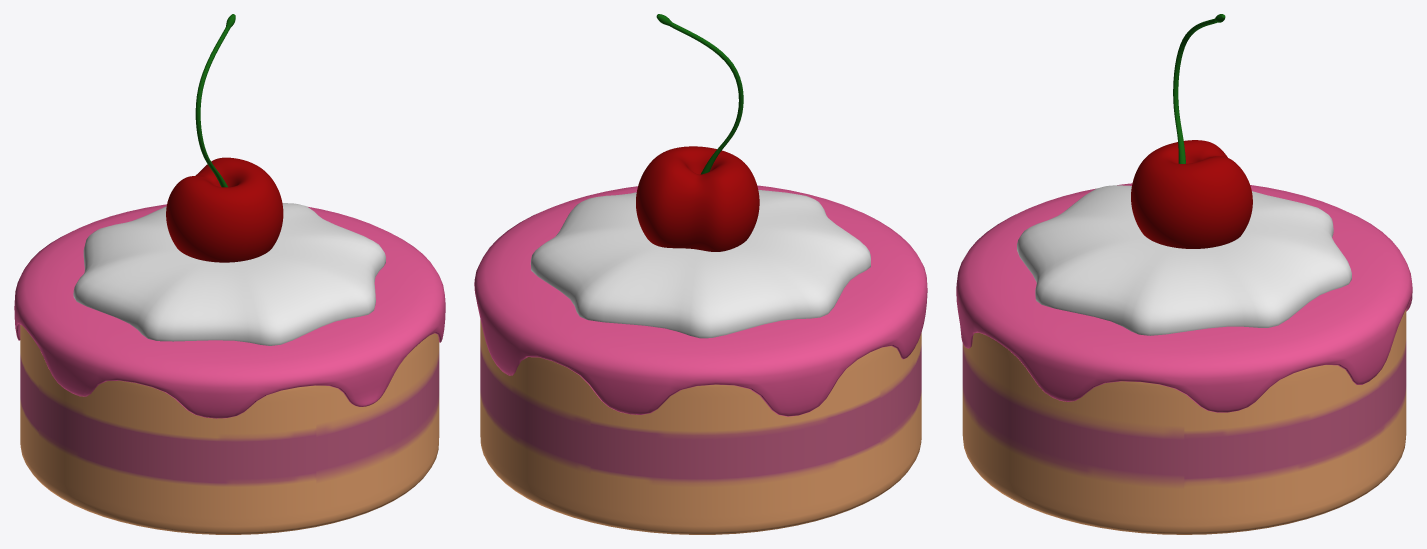
Rendered from round-cake-cherry.fbx.
3 views of the same model, side by side, from view 1: azimuth 30°, elevation 25°; view 2: azimuth 150°, elevation 25°; view 3: azimuth 270°, elevation 25° (orthographic). The views are drawn at different scales.
Visible parts, largest first — view 1: round-cake-cherry, round-cake.001, Circle, cherry.002, cherry stem.002; view 2: round-cake-cherry, round-cake.001, Circle, cherry.002, cherry stem.002; view 3: round-cake-cherry, round-cake.001, Circle, cherry.002, cherry stem.002.
Boxes of the visible parts, x1,y1,x2,y2 form: round-cake-cherry: (20,325,439,534); round-cake.001: (14,204,445,418); Circle: (73,203,385,345); cherry.002: (166,157,283,262); cherry stem.002: (195,14,235,187); round-cake-cherry: (480,319,921,534); round-cake.001: (474,185,927,416); Circle: (530,190,870,338); cherry.002: (636,146,759,251); cherry stem.002: (656,14,743,174); round-cake-cherry: (962,308,1406,534); round-cake.001: (956,183,1412,412); Circle: (1017,185,1351,335); cherry.002: (1131,140,1252,248); cherry stem.002: (1173,14,1225,163).
Bounding box in the file's own units: 317 × 339 × 317.
